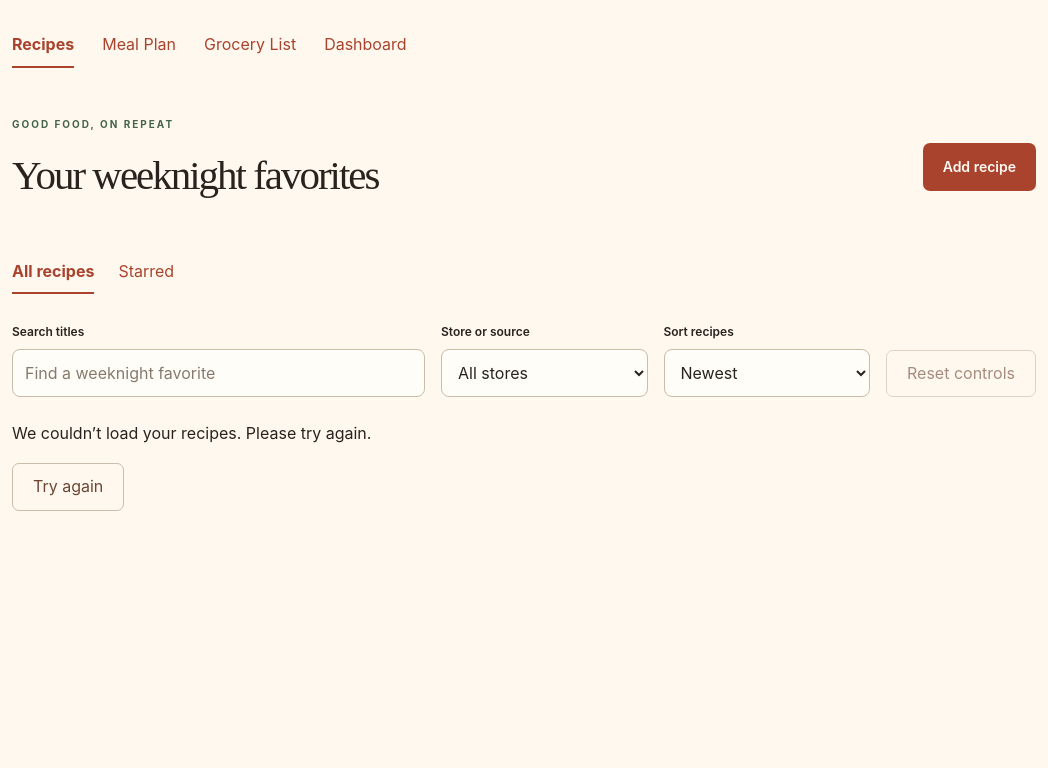
Test: offers retry after a collection request fails
The width and height of the screenshot is (1048, 768).
Click the button "Try again". click: click(68, 487)
box: [12,463,124,511]
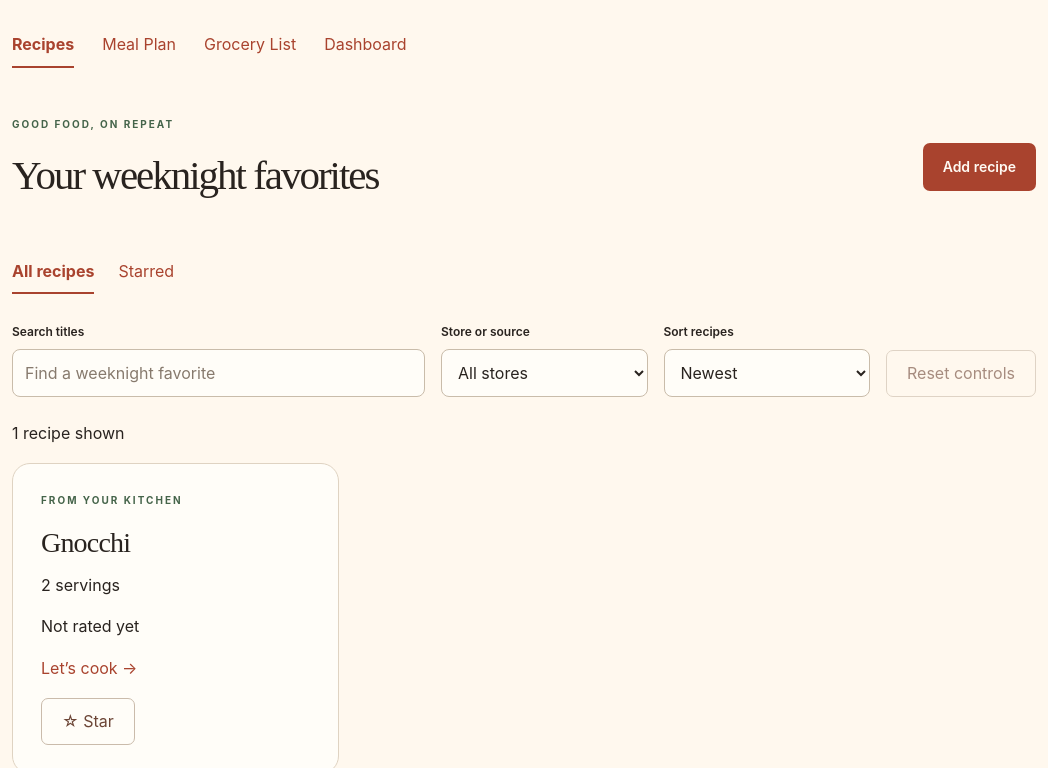
expect the link "Gnocchi" is shown: met, box [41,494,183,678]
